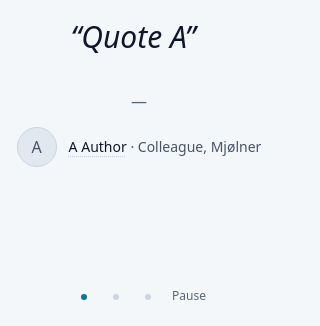
it: <RecommendationsCarousel /> › auto-rotate pauses while hovered, resumes on hover-out
Hover over the element named "Recommendations": (133, 36) left=17, top=16, right=261, bottom=309
Expected: the text "“Quote A”" is shown, left=71, top=16, right=196, bottom=57
Move the pointer off the element named "Recommendations"
Wait 7000 ms
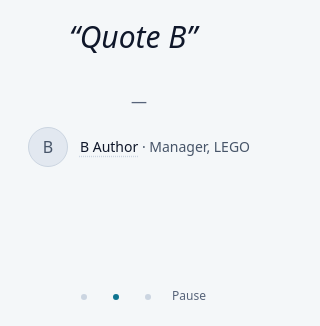
Result: the text "“Quote B”" is shown at left=69, top=16, right=197, bottom=57
